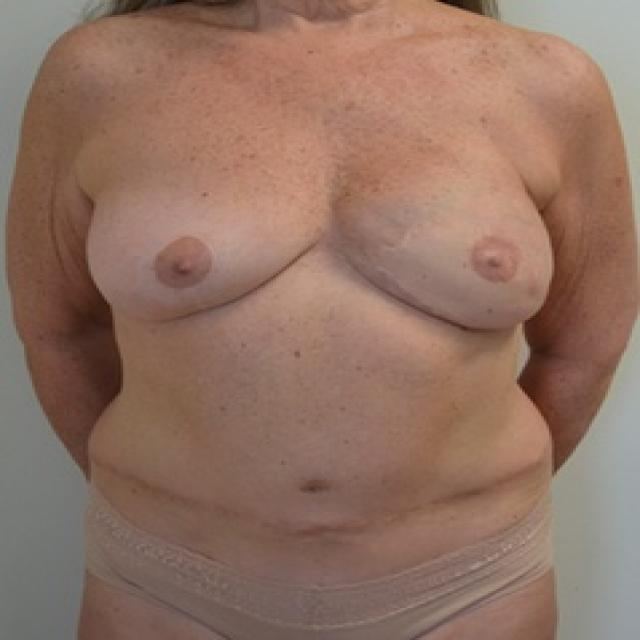Seno herido: (329, 138, 565, 345)
Seno ileso: (75, 138, 322, 340)
